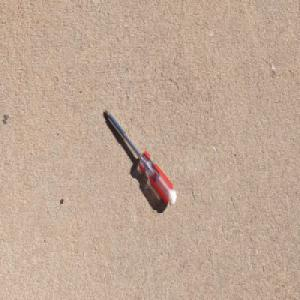Screwdriver: (103, 107, 178, 208)
